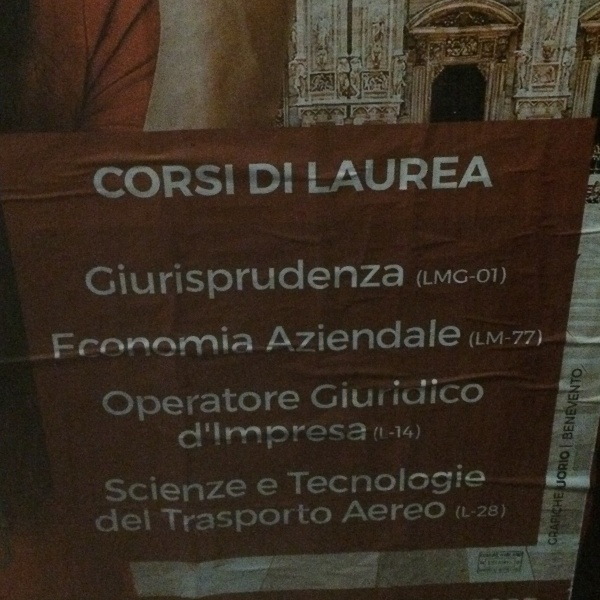text: (97, 257, 112, 308), (113, 257, 128, 308), (129, 257, 144, 308), (145, 257, 160, 308), (161, 257, 176, 308), (177, 257, 192, 308), (193, 257, 208, 308), (209, 257, 224, 308), (225, 257, 240, 308), (241, 257, 256, 308), (257, 257, 272, 308), (273, 257, 288, 308), (289, 257, 304, 308), (305, 257, 320, 308), (321, 257, 336, 308), (337, 257, 352, 308), (353, 257, 368, 308), (369, 257, 384, 308), (385, 257, 400, 308), (82, 257, 96, 308), (177, 413, 192, 458), (193, 413, 208, 458), (209, 413, 224, 458), (225, 413, 240, 458), (241, 413, 256, 458), (257, 413, 272, 458), (273, 413, 288, 458), (289, 413, 304, 458), (305, 413, 320, 458), (321, 413, 336, 458), (337, 413, 352, 458), (65, 324, 80, 366), (81, 324, 96, 366), (97, 324, 112, 366), (113, 324, 128, 366), (129, 324, 144, 366), (145, 324, 160, 366), (161, 324, 176, 366), (177, 324, 192, 366), (193, 324, 208, 366), (209, 324, 224, 366), (225, 324, 240, 366), (321, 155, 336, 195), (337, 155, 352, 195), (353, 155, 368, 195), (369, 155, 384, 195), (385, 155, 400, 195), (401, 155, 416, 195), (417, 155, 432, 195), (433, 155, 448, 195), (449, 155, 464, 195), (465, 155, 480, 195), (353, 413, 366, 458), (561, 451, 576, 490), (449, 318, 465, 353), (51, 324, 64, 366), (97, 164, 112, 200), (113, 164, 128, 200), (129, 164, 144, 200), (145, 164, 160, 200), (161, 164, 176, 200), (177, 164, 192, 200), (193, 164, 208, 200), (209, 164, 224, 200), (289, 318, 304, 353), (305, 318, 320, 353), (321, 318, 336, 353), (337, 318, 352, 353), (353, 318, 368, 353), (369, 318, 384, 353), (385, 318, 400, 353), (401, 318, 416, 353), (417, 318, 432, 353), (433, 318, 448, 353), (97, 390, 112, 425), (113, 390, 128, 425), (129, 390, 144, 425), (145, 390, 160, 425), (161, 390, 176, 425), (177, 390, 192, 425), (193, 390, 208, 425), (209, 390, 224, 425), (225, 390, 240, 425), (241, 390, 256, 425), (257, 390, 272, 425), (273, 390, 288, 425), (481, 155, 494, 195), (161, 503, 176, 537), (177, 503, 192, 537), (193, 503, 208, 537), (209, 503, 224, 537), (225, 503, 240, 537), (241, 503, 256, 537), (257, 503, 272, 537), (273, 503, 288, 537), (289, 503, 304, 537), (305, 503, 320, 537), (241, 324, 253, 366), (289, 463, 304, 496), (305, 463, 320, 496), (321, 463, 336, 496), (337, 463, 352, 496), (353, 463, 368, 496), (369, 463, 384, 496), (385, 463, 400, 496), (401, 463, 416, 496), (417, 463, 432, 496), (433, 463, 448, 496), (449, 463, 464, 496), (465, 463, 480, 496), (257, 163, 272, 195), (273, 163, 288, 195), (321, 378, 336, 408), (337, 378, 352, 408), (353, 378, 368, 408), (369, 378, 384, 408), (385, 378, 400, 408), (401, 378, 416, 408), (417, 378, 432, 408), (433, 378, 448, 408), (449, 378, 464, 408), (465, 378, 480, 408), (113, 475, 128, 505), (129, 475, 144, 505), (145, 475, 160, 505), (161, 475, 176, 505), (177, 475, 192, 505), (193, 475, 208, 505), (209, 475, 224, 505), (225, 475, 240, 505), (309, 155, 320, 195), (577, 368, 583, 439), (276, 318, 288, 353), (289, 390, 301, 425), (481, 463, 493, 496), (97, 508, 112, 534), (113, 508, 128, 534), (129, 508, 144, 534), (321, 503, 332, 537), (225, 164, 235, 200), (353, 500, 368, 524), (369, 500, 384, 524), (385, 500, 400, 524), (401, 500, 416, 524), (417, 500, 432, 524), (433, 500, 448, 524), (417, 267, 432, 289), (433, 267, 448, 289), (449, 267, 464, 289), (465, 267, 480, 289), (481, 267, 496, 289), (481, 553, 496, 575), (497, 553, 512, 575), (554, 492, 560, 546), (88, 164, 96, 200), (260, 474, 272, 498), (481, 330, 496, 349), (497, 330, 512, 349), (513, 330, 528, 349), (529, 330, 544, 349), (572, 368, 576, 439), (385, 425, 400, 443), (401, 425, 416, 443), (248, 163, 256, 195), (465, 505, 480, 520), (481, 505, 496, 520), (497, 267, 507, 289), (513, 553, 523, 575), (481, 378, 488, 408), (241, 475, 248, 505), (145, 508, 152, 534), (106, 475, 112, 505), (375, 425, 384, 443), (561, 492, 564, 546), (401, 257, 404, 308), (472, 330, 480, 349), (497, 505, 507, 520), (273, 474, 279, 498), (289, 163, 293, 195), (285, 463, 288, 496), (317, 378, 320, 408), (458, 505, 464, 520), (417, 425, 421, 443), (94, 508, 96, 534), (159, 503, 160, 537), (561, 446, 574, 448), (415, 267, 416, 289), (545, 330, 546, 349), (559, 446, 560, 448)
